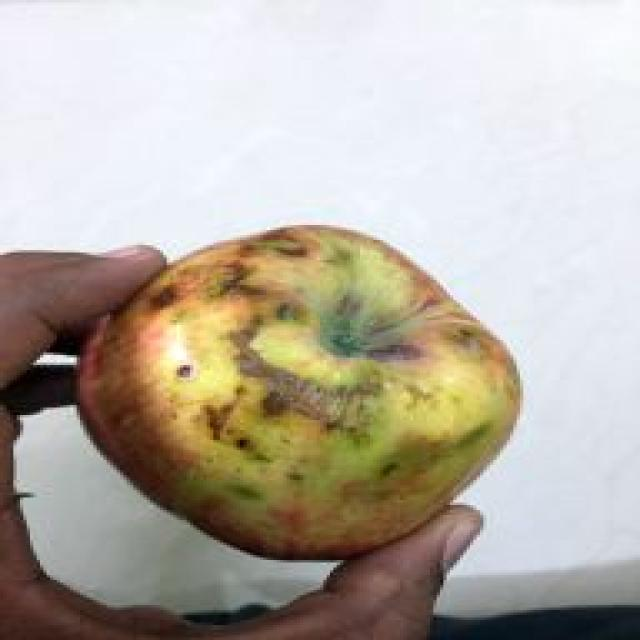Rotten_Apple: (83, 215, 535, 560)
